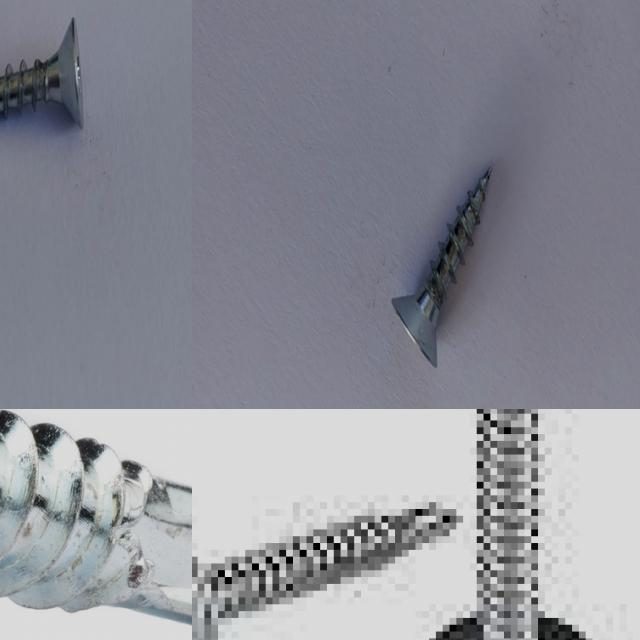Screw: (0, 412, 192, 624), (192, 502, 456, 640), (431, 409, 587, 640), (391, 167, 491, 367), (0, 16, 83, 127)
